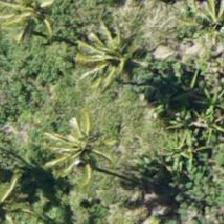coconut_tree: (73, 9, 163, 99), (40, 103, 130, 193), (169, 0, 223, 62), (0, 0, 55, 45)
